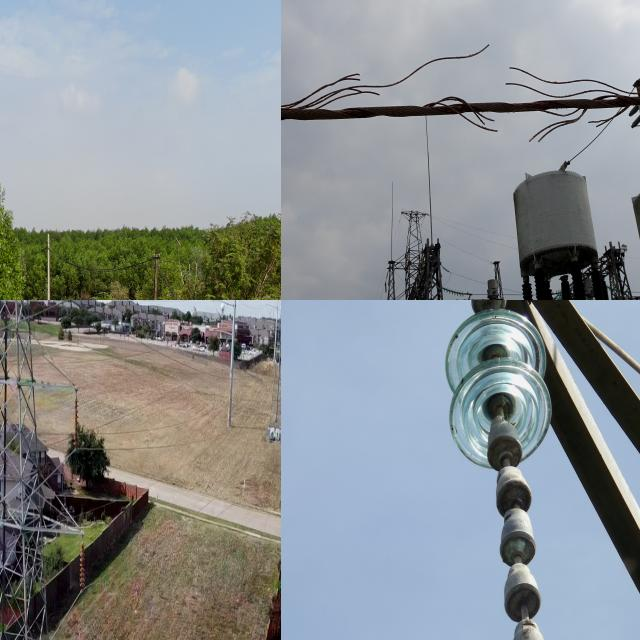杆塔: (0, 300, 85, 640), (264, 300, 281, 444)
正常绝缘子: (441, 300, 561, 640), (68, 381, 86, 479), (76, 532, 92, 608), (59, 300, 75, 320)
电缆破损: (281, 36, 640, 139)
绝缘子破损: (504, 580, 541, 636), (499, 527, 536, 579), (496, 482, 534, 524), (488, 432, 523, 476)
